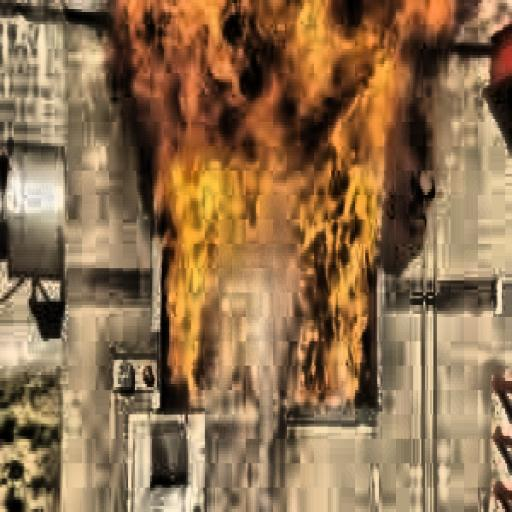fire: (104, 3, 396, 424)
